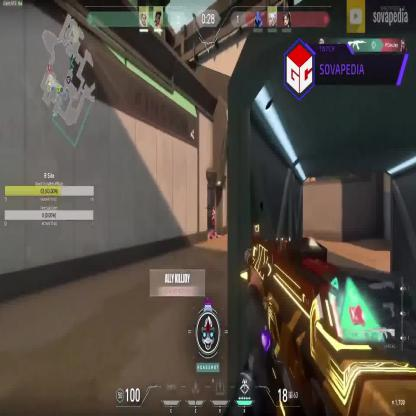enemy: (210, 206, 218, 239)
enemy_head: (212, 208, 214, 214)
